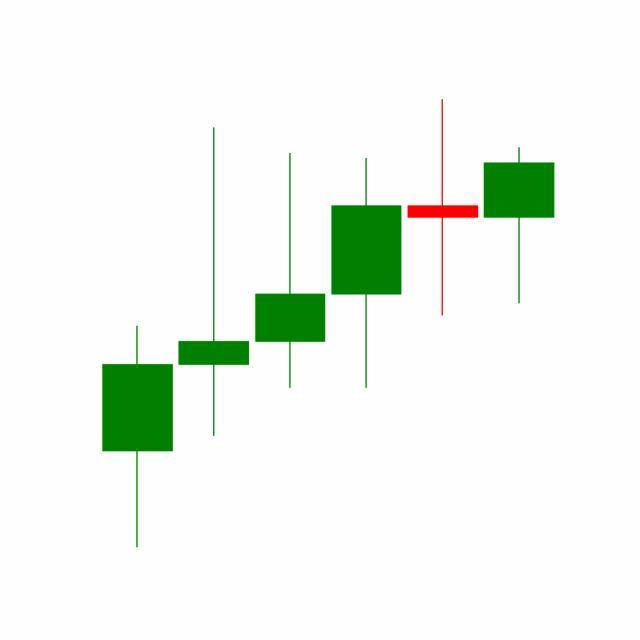Spinning Top: (404, 97, 482, 319)
